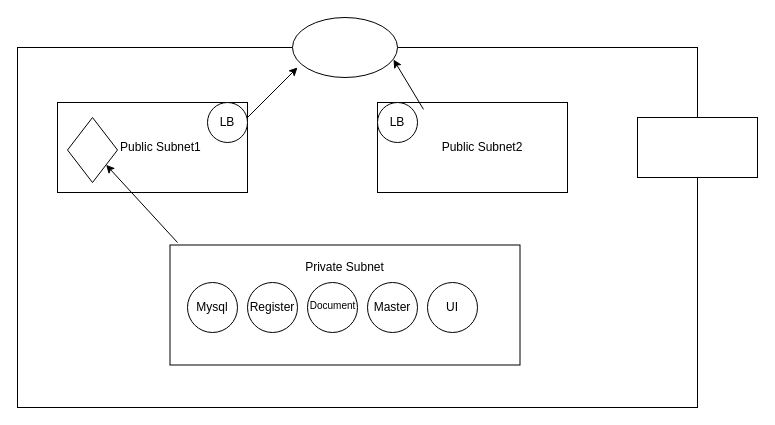
Image size: 775x425. Some labels were removed from this diagram. Each missing label, with the centre of its shape:
IGW: the point at 345,47
NAT: the point at 92,149
VPC: the point at 697,147
